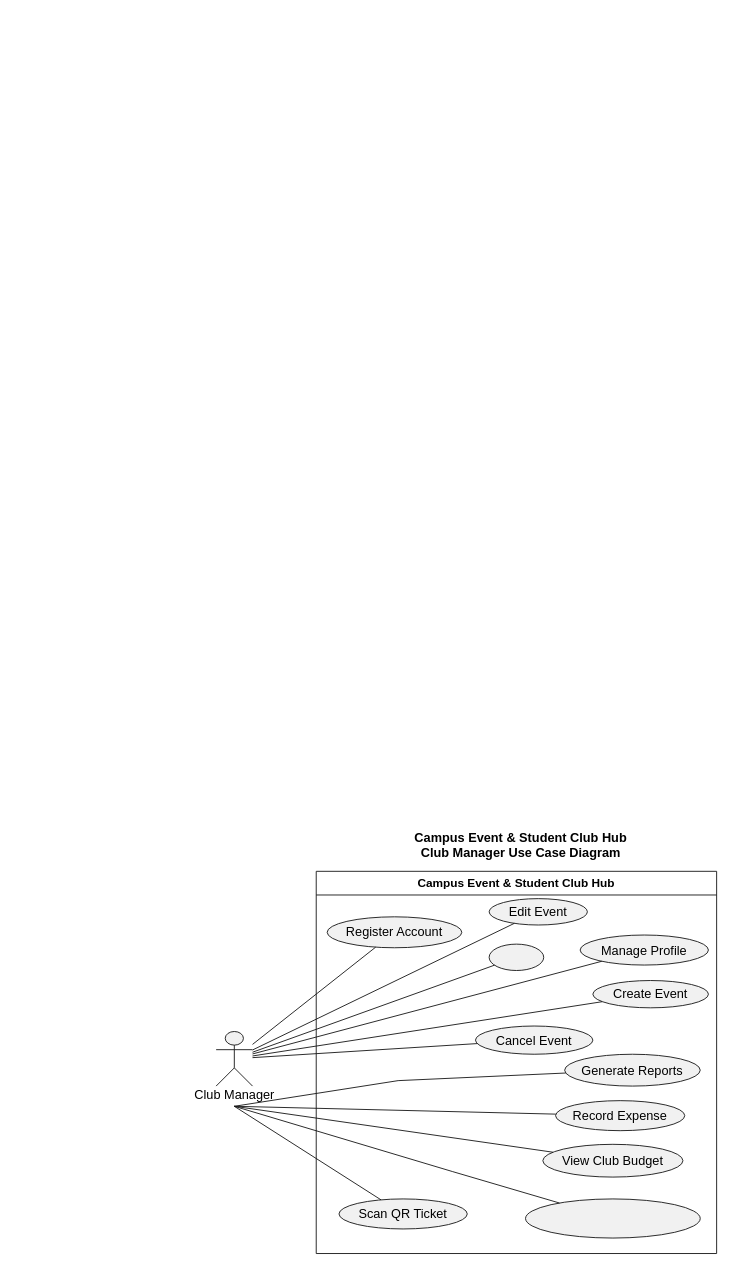
The diagram is 733 pixels wide and 1269 high, and some of its shapes have lost their labels. Here are the shapes that lost their labels. From the top down, the centre of each, then its label:
At pixel 516 957: "Login".
At pixel 612 1218: "Track Event Attendance".
